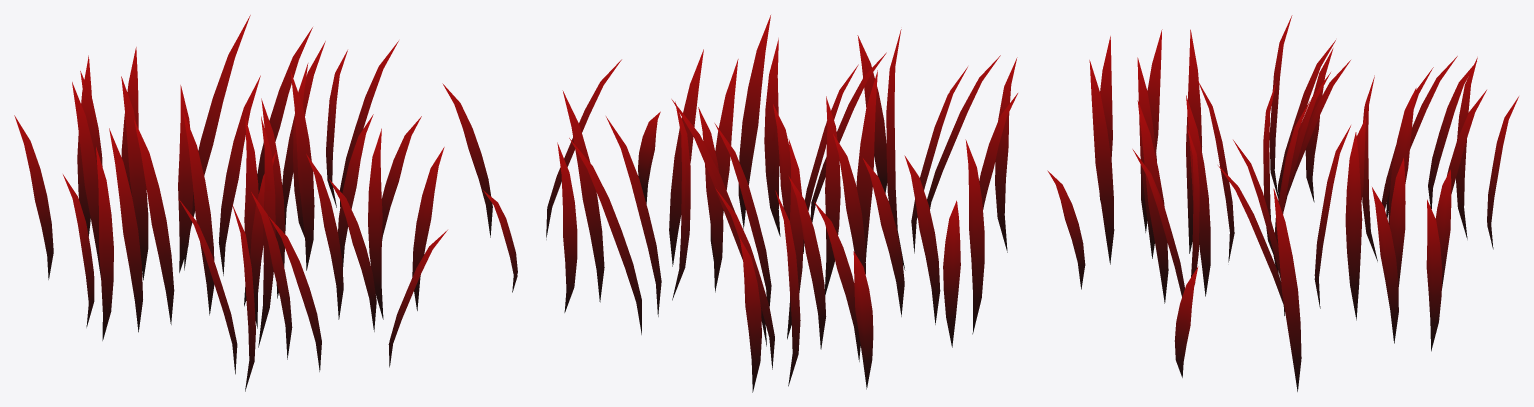
The model's file is Grass.fbx.
3 views of the same model, side by side, from view 1: azimuth 30°, elevation 25°; view 2: azimuth 150°, elevation 25°; view 3: azimuth 270°, elevation 25° (orthographic). The views are drawn at different scales.
Parts seen in each view (by area): view 1: Grass; view 2: Grass; view 3: Grass.
Part boxes in pixels (x1=…): Grass: x1=14, y1=15, x2=517, y2=391; Grass: x1=546, y1=15, x2=1017, y2=392; Grass: x1=1047, y1=15, x2=1518, y2=391.
Size of the model in its own units: 2.68 by 1.48 by 2.72.
